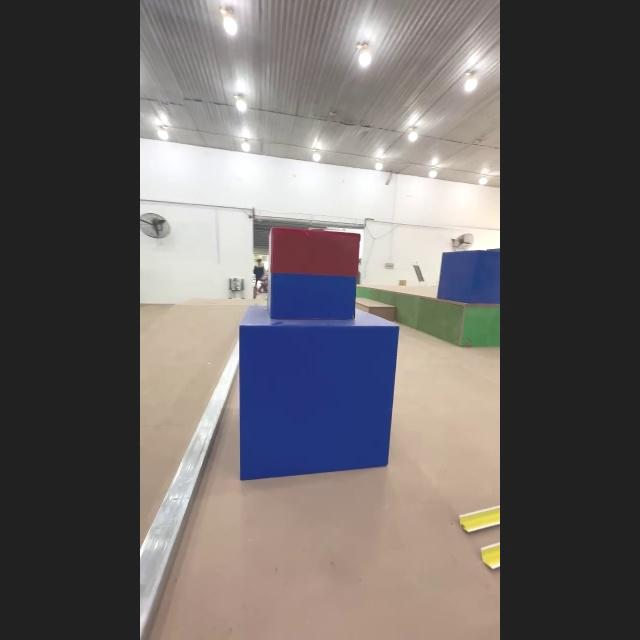sky_block: (266, 228, 363, 321)
